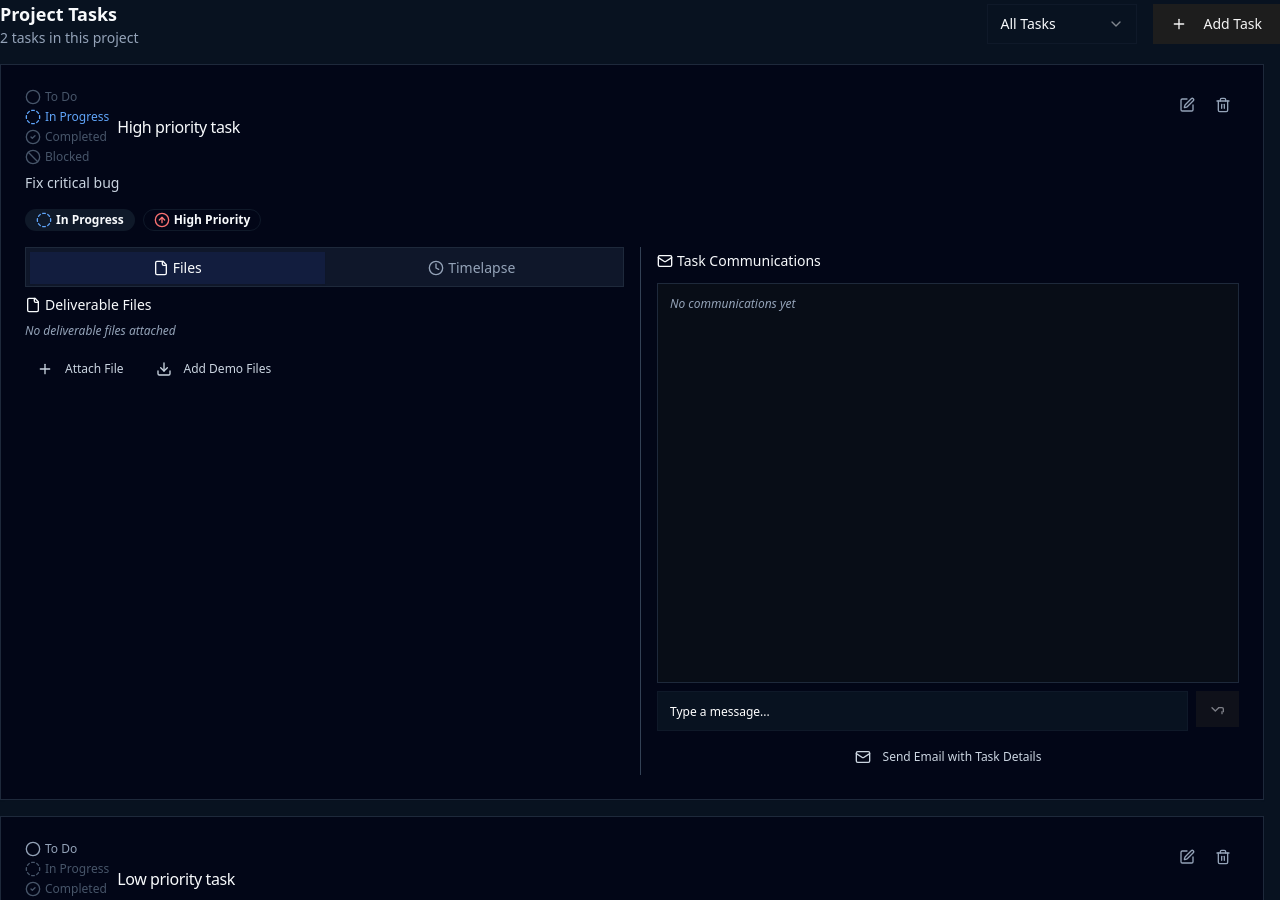
Test: ProjectTasks – priority and status dropdown retention › Edit dialog priority updates when editing a different task (proves value= not defaultValue=)
Expected: the heading "High priority task" is shown, [117,115,240,139]
Expected: the heading "Low priority task" is shown, [117,867,235,891]
Click the 2nd button. click: click(1187, 105)
box: [1171,89,1203,121]
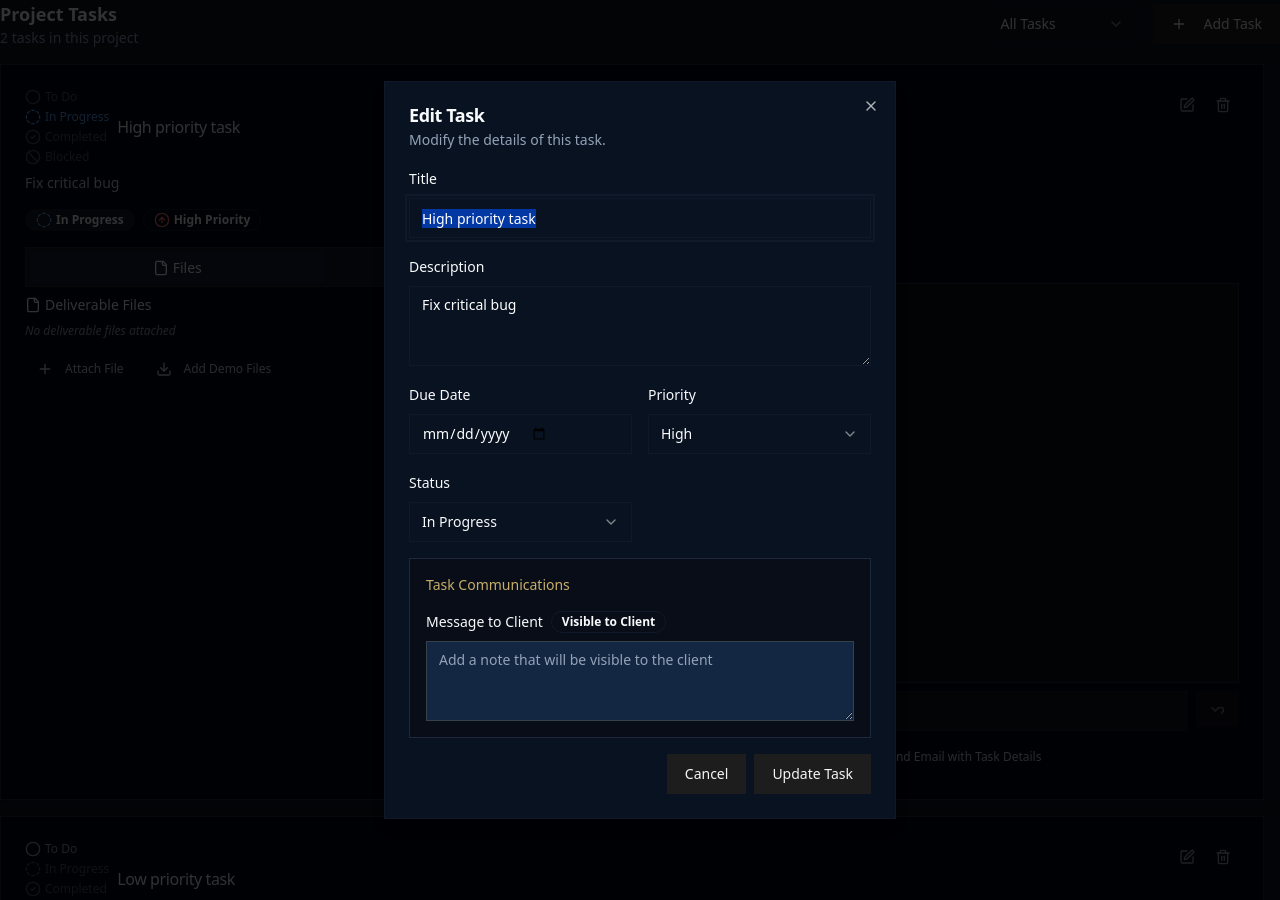
Now the dialog is shown, box [384,81,896,819]
Now the dropdown labelled "High" is shown, box [648,414,871,454]
Press Escape
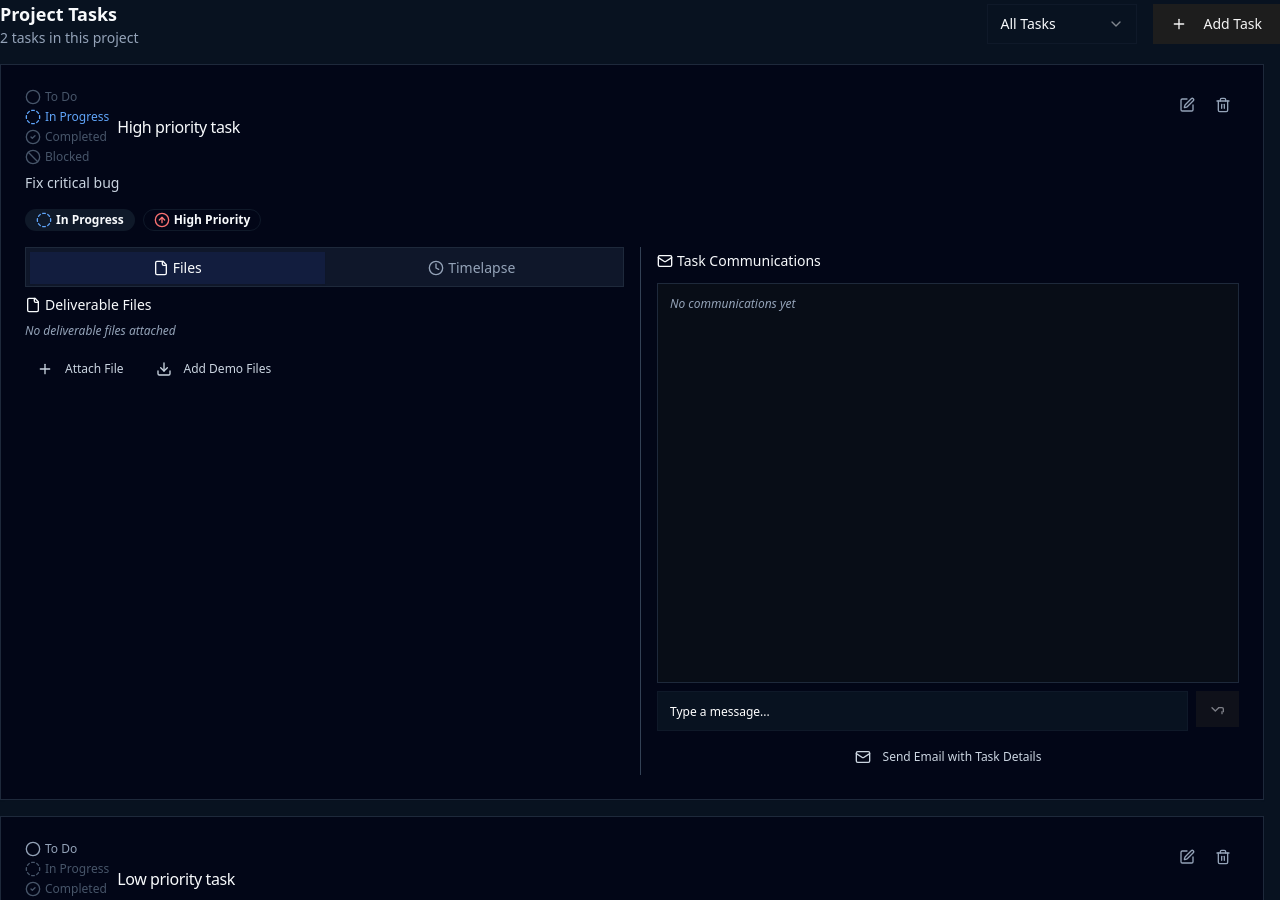
Now the dialog is gone
Click the 8th button. click: click(1187, 857)
box: [1171,841,1203,873]
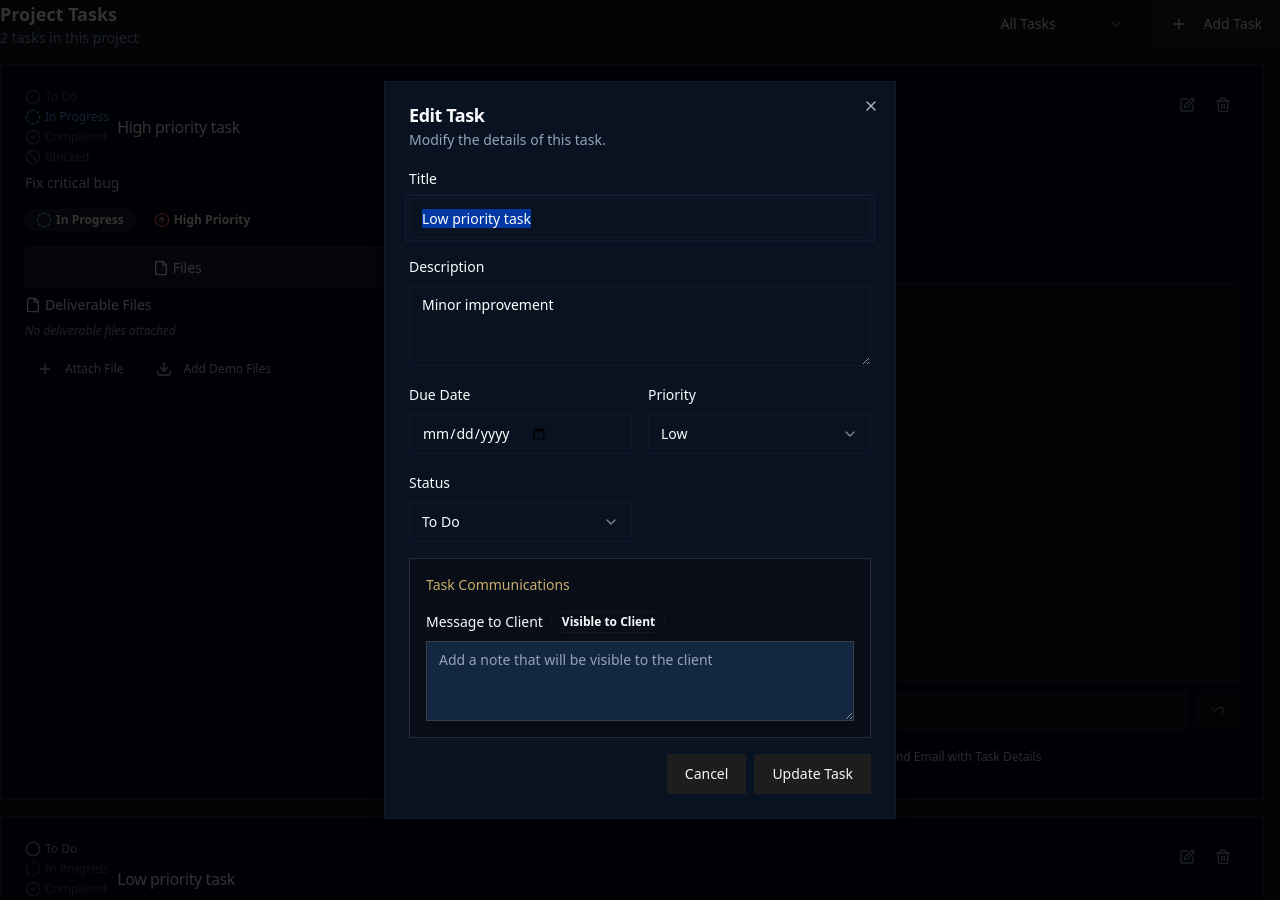
Now the dialog is shown, box [384,81,896,819]
Now the dropdown labelled "Low" is shown, box [648,414,871,454]
